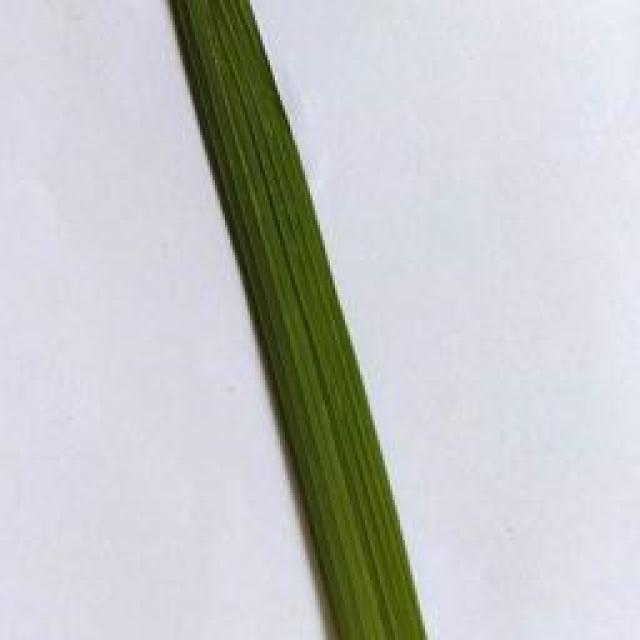Healthy-Plant: (166, 0, 438, 640)
